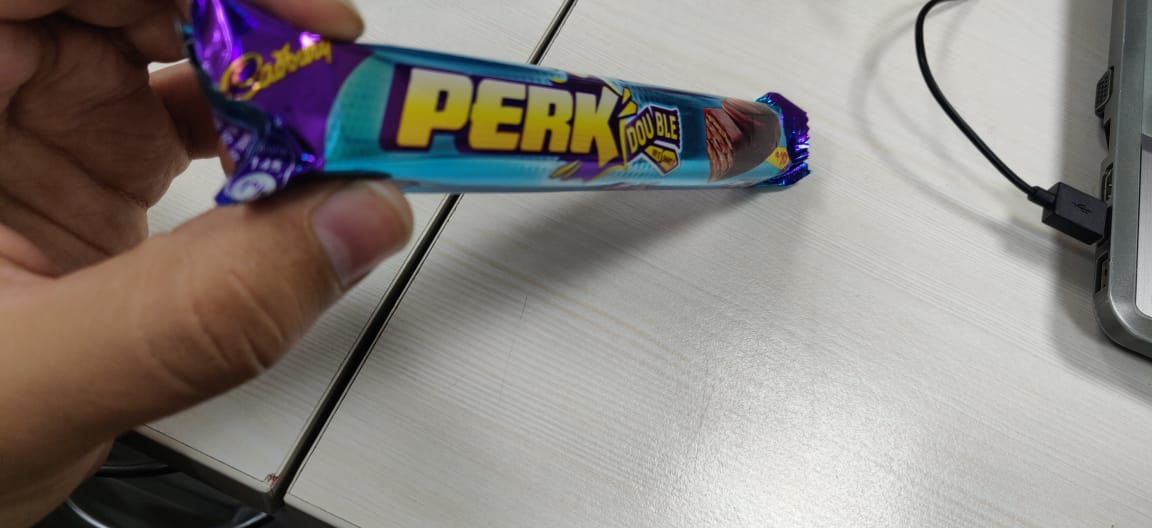perk: (156, 1, 830, 238)
